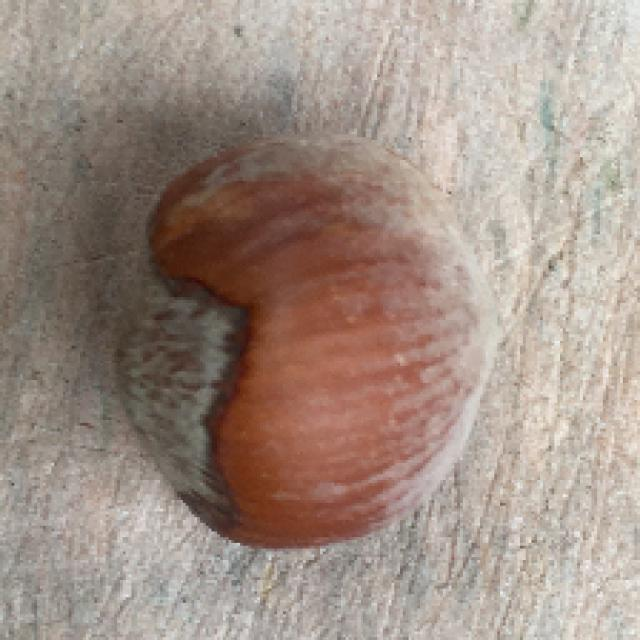qualityHazelnut: (114, 123, 498, 553)
